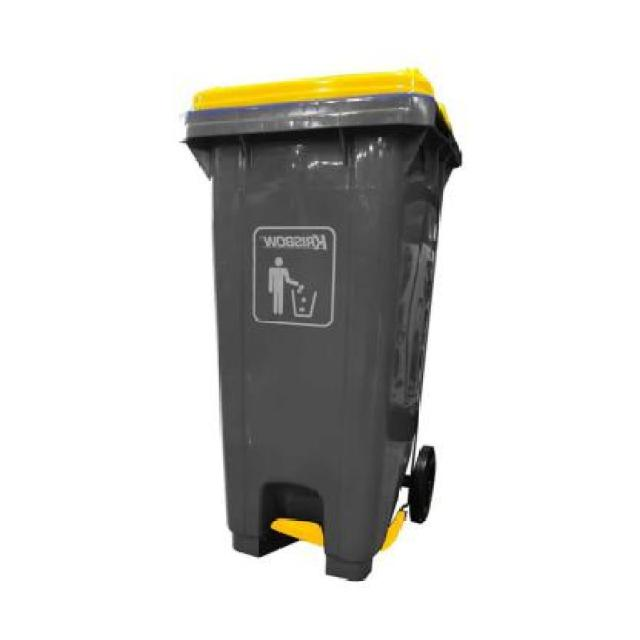garbage container: (131, 57, 504, 591)
